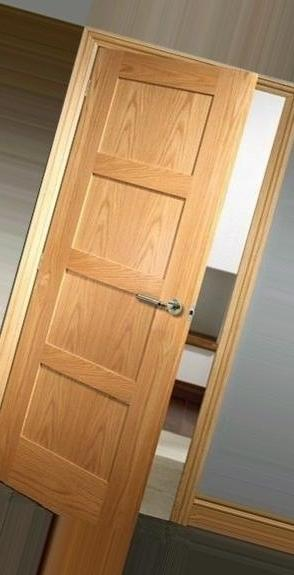door: (11, 22, 256, 525)
